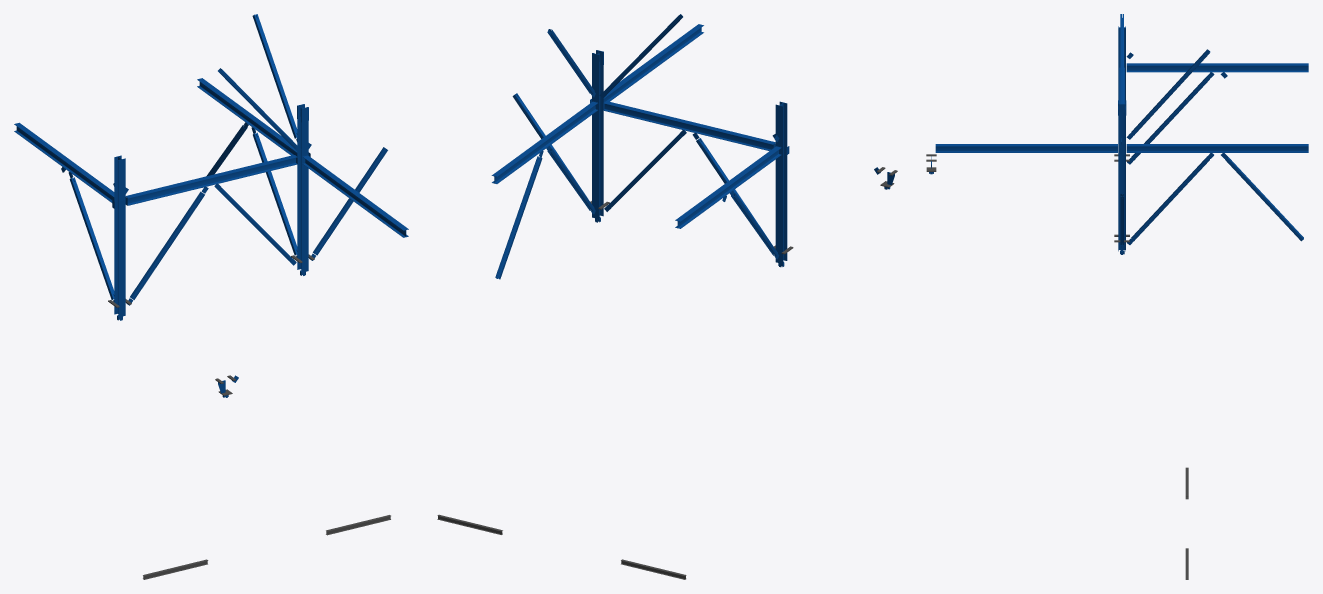
The model's file is GCC-AAV-13220-30.nwd(64).fbx.
3 views of the same model, side by side, from view 1: azimuth 30°, elevation 25°; view 2: azimuth 150°, elevation 25°; view 3: azimuth 270°, elevation 25° (orthographic). The views are drawn at different scales.
Visible parts, largest first — view 1: Группа фасетов (×13); view 2: Группа фасетов (×7); view 3: Группа фасетов (×8).
Part boxes in pixels (x1,y1,x2,y2): Группа фасетов (×13): (14, 14, 408, 317); Группа фасетов (×7): (491, 24, 787, 279); Группа фасетов (×8): (935, 49, 1308, 251).
Size of the model in its own units: 676 by 1083 by 789.
